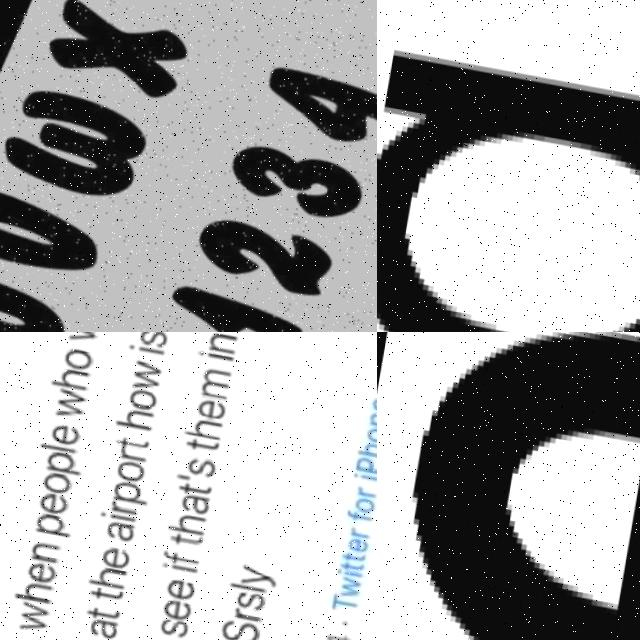1: (145, 255, 323, 332)
2: (177, 180, 354, 321)
3: (204, 105, 377, 247)
4: (214, 19, 377, 182), (326, 628, 354, 640)
A: (182, 488, 215, 514), (106, 516, 139, 541), (90, 614, 124, 637)
E: (414, 332, 640, 640), (28, 558, 60, 583), (102, 543, 135, 567), (168, 574, 199, 599), (197, 393, 229, 417), (164, 594, 197, 617), (41, 488, 71, 513), (52, 420, 81, 444), (348, 530, 371, 550), (371, 390, 377, 408)
F: (165, 547, 203, 563), (347, 505, 375, 518), (366, 420, 377, 437)
G: (377, 32, 640, 332)
H: (16, 577, 57, 602), (89, 562, 130, 586), (51, 363, 90, 388), (169, 507, 208, 531), (184, 413, 223, 437), (118, 404, 156, 428), (357, 434, 377, 452)
I: (164, 558, 200, 570), (102, 509, 140, 520), (129, 341, 165, 352), (199, 347, 235, 358), (339, 564, 365, 572), (354, 466, 377, 474)
L: (41, 441, 77, 452), (230, 579, 269, 588)
M: (200, 363, 232, 398)
N: (31, 538, 62, 563), (206, 332, 239, 351), (369, 405, 377, 423)
O: (115, 455, 148, 481), (127, 384, 160, 409), (63, 344, 94, 370), (44, 469, 73, 493), (355, 490, 377, 508)
P: (47, 447, 87, 474), (37, 510, 76, 536), (114, 476, 152, 502), (355, 450, 377, 468)
R: (111, 496, 140, 513), (120, 443, 149, 460), (237, 602, 264, 619), (352, 522, 372, 534), (357, 480, 377, 492)
S: (222, 611, 264, 640), (187, 452, 220, 475), (163, 613, 192, 634), (238, 585, 267, 606), (137, 332, 169, 344)
T: (92, 582, 127, 601), (178, 477, 213, 495), (187, 434, 221, 451), (88, 602, 123, 618), (172, 528, 206, 543), (333, 589, 361, 607), (118, 434, 151, 449), (340, 555, 366, 567), (342, 546, 367, 557)
W: (21, 597, 52, 631), (56, 384, 87, 418), (133, 356, 164, 390), (341, 572, 363, 593), (68, 332, 99, 340)
Y: (241, 560, 281, 585)
